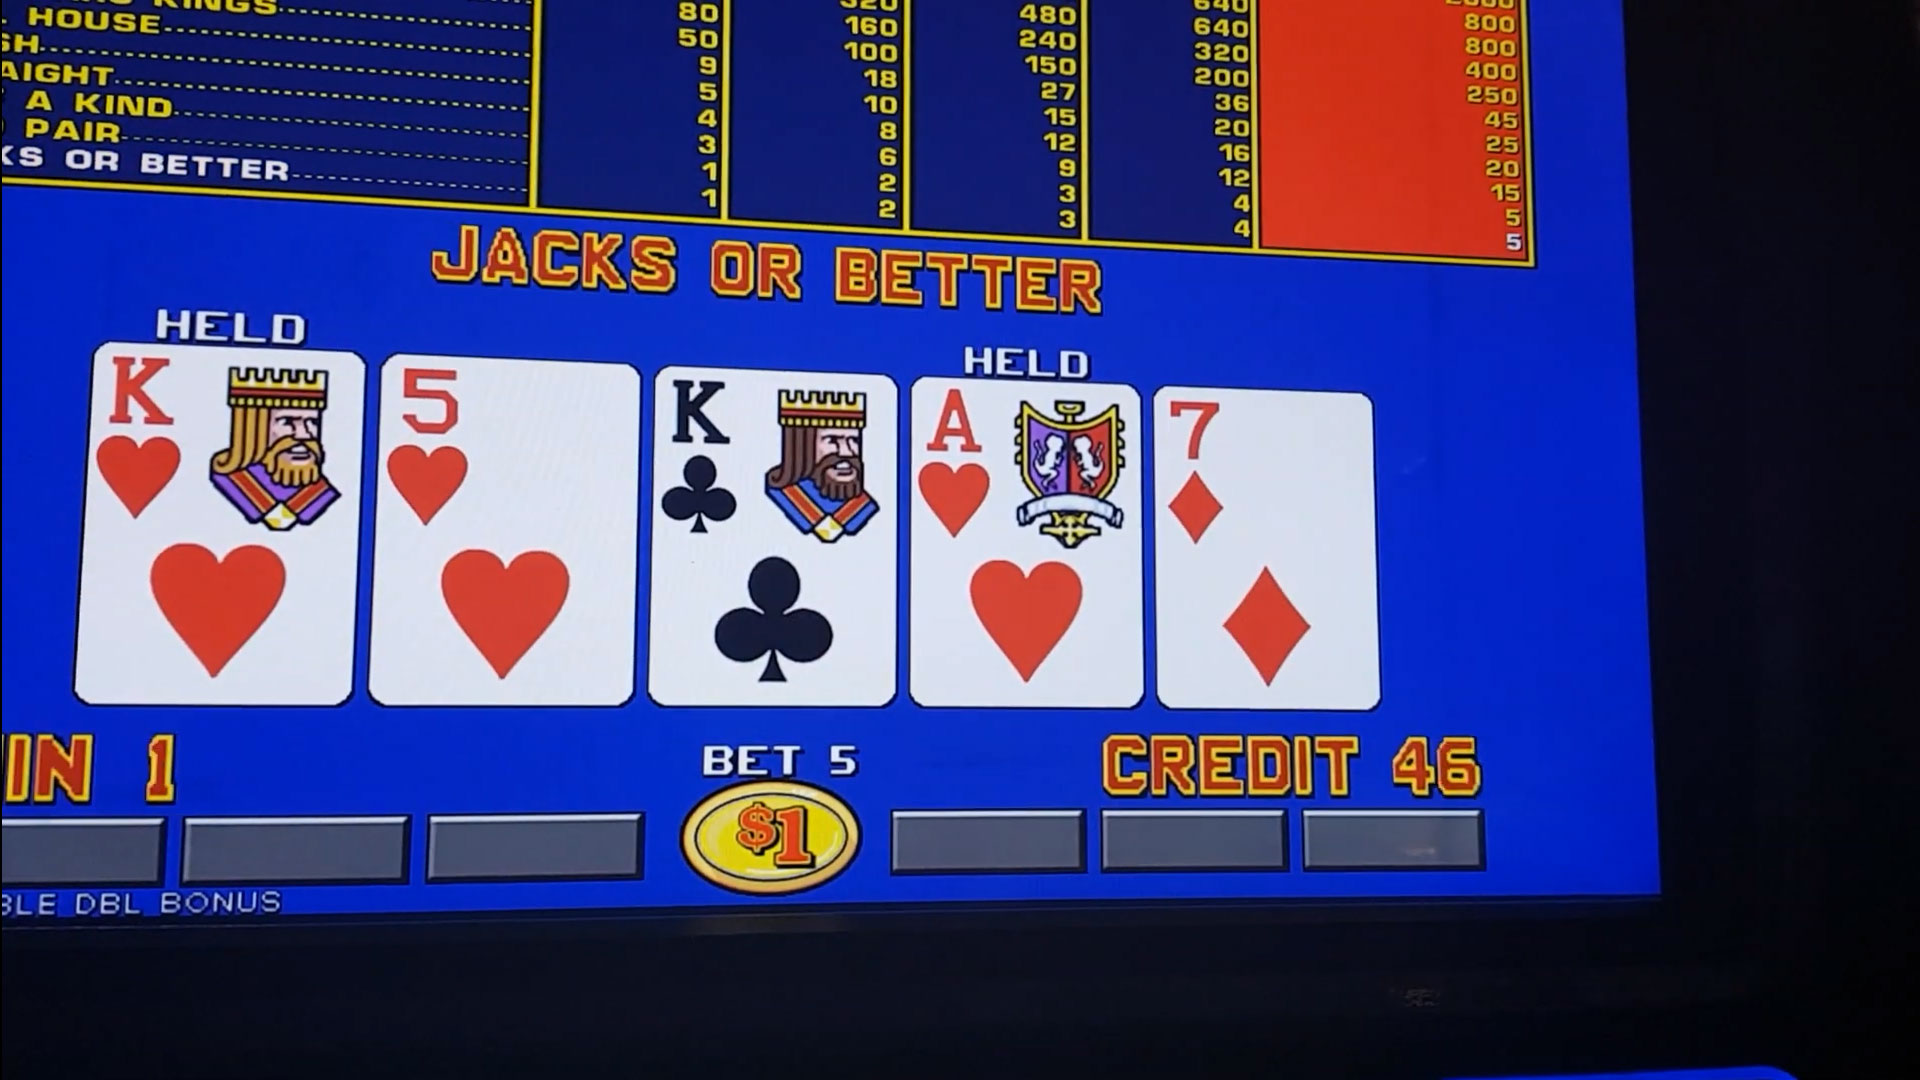CK: (649, 371, 886, 549)
D7: (1156, 384, 1358, 562)
H5: (385, 357, 628, 541)
HA: (915, 377, 1131, 549)
HK: (94, 353, 359, 526)
